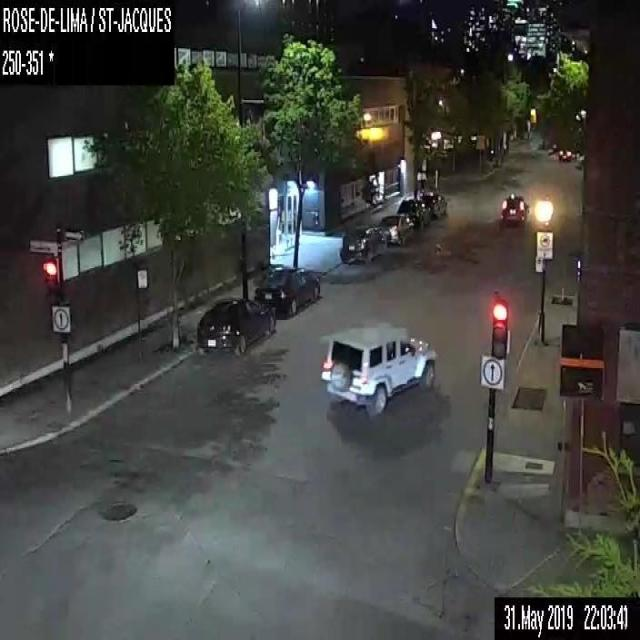vehicle: (319, 321, 436, 419), (194, 297, 276, 355), (253, 264, 320, 316), (338, 224, 389, 263), (397, 196, 434, 227), (375, 214, 412, 243), (499, 194, 527, 222), (558, 148, 575, 161)
